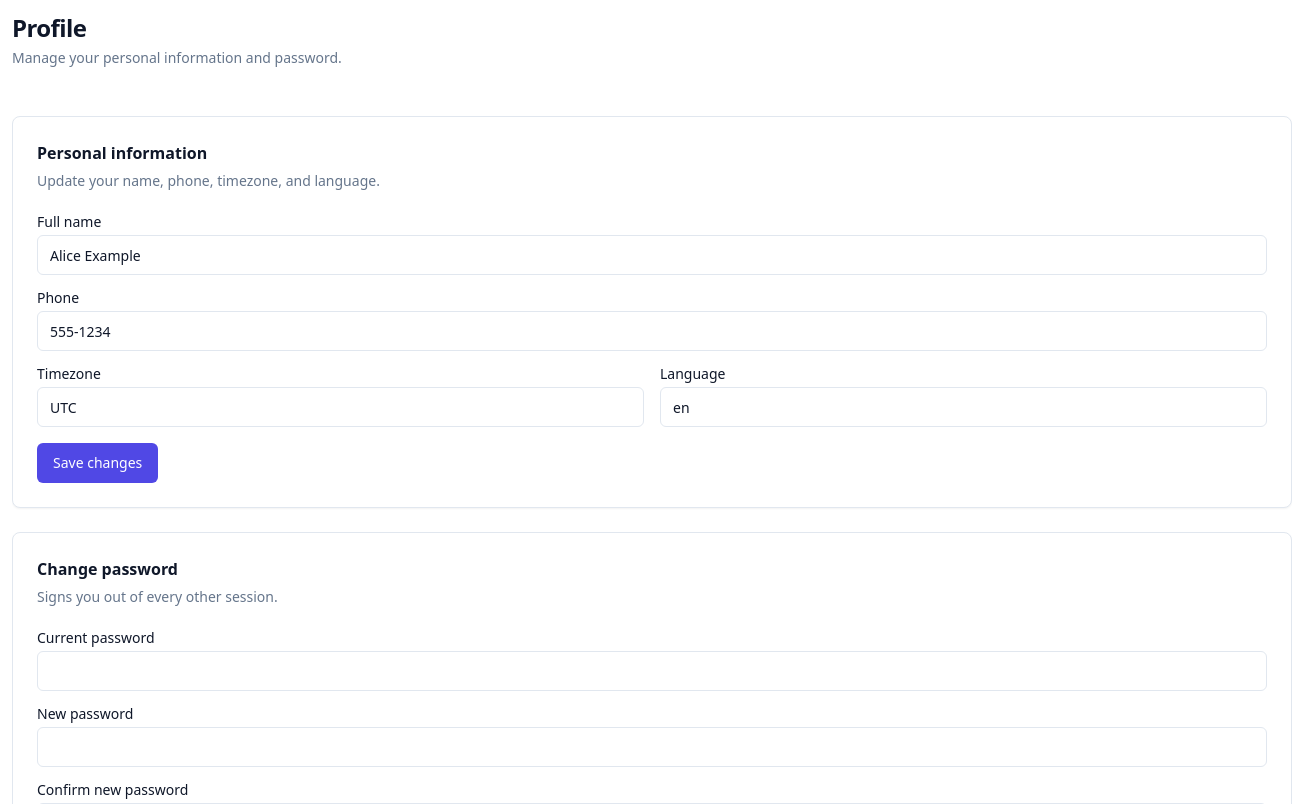
Test: ProfilePage › submits profile updates
Replace the text in the field showing "Alice Example" with "Alice Updated" at [652, 255], box [37,235,1267,275]
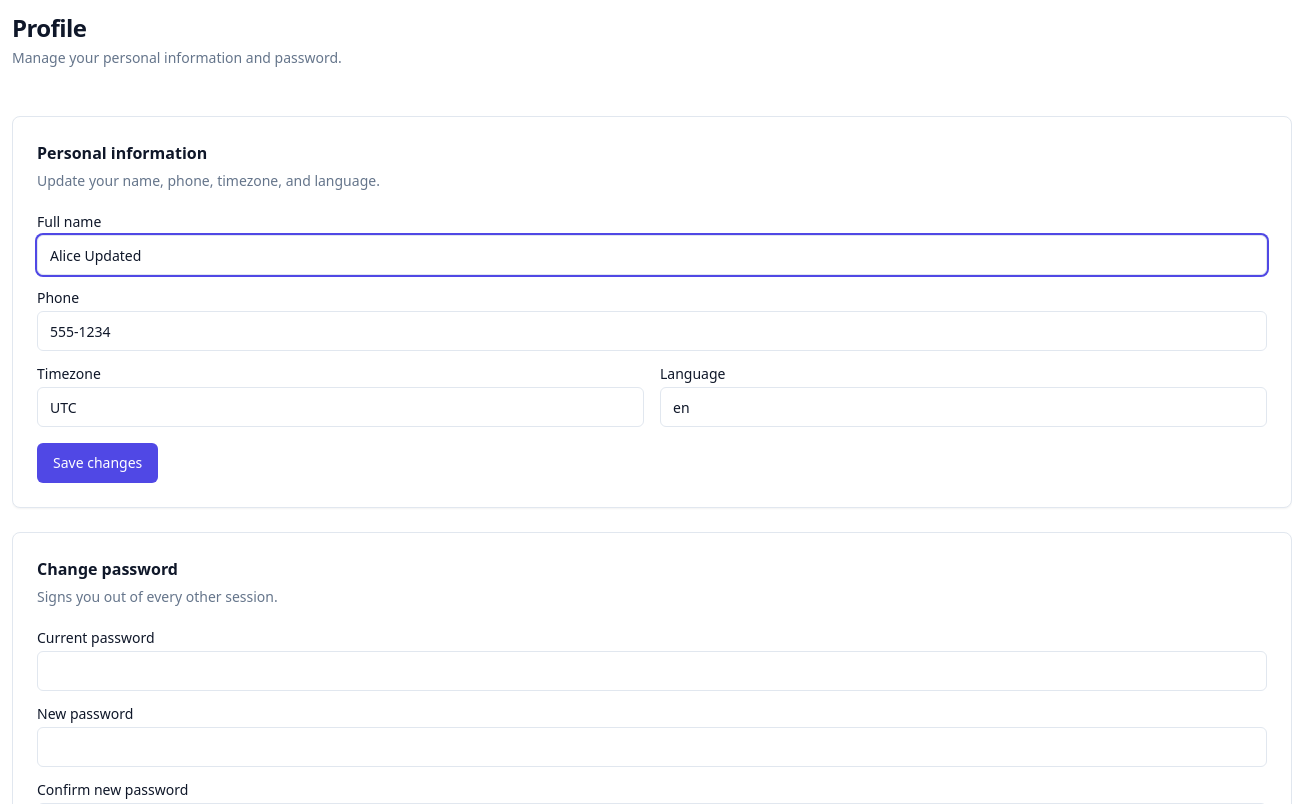
Click the button "Save changes" at [98, 463], box [37,443,158,483]
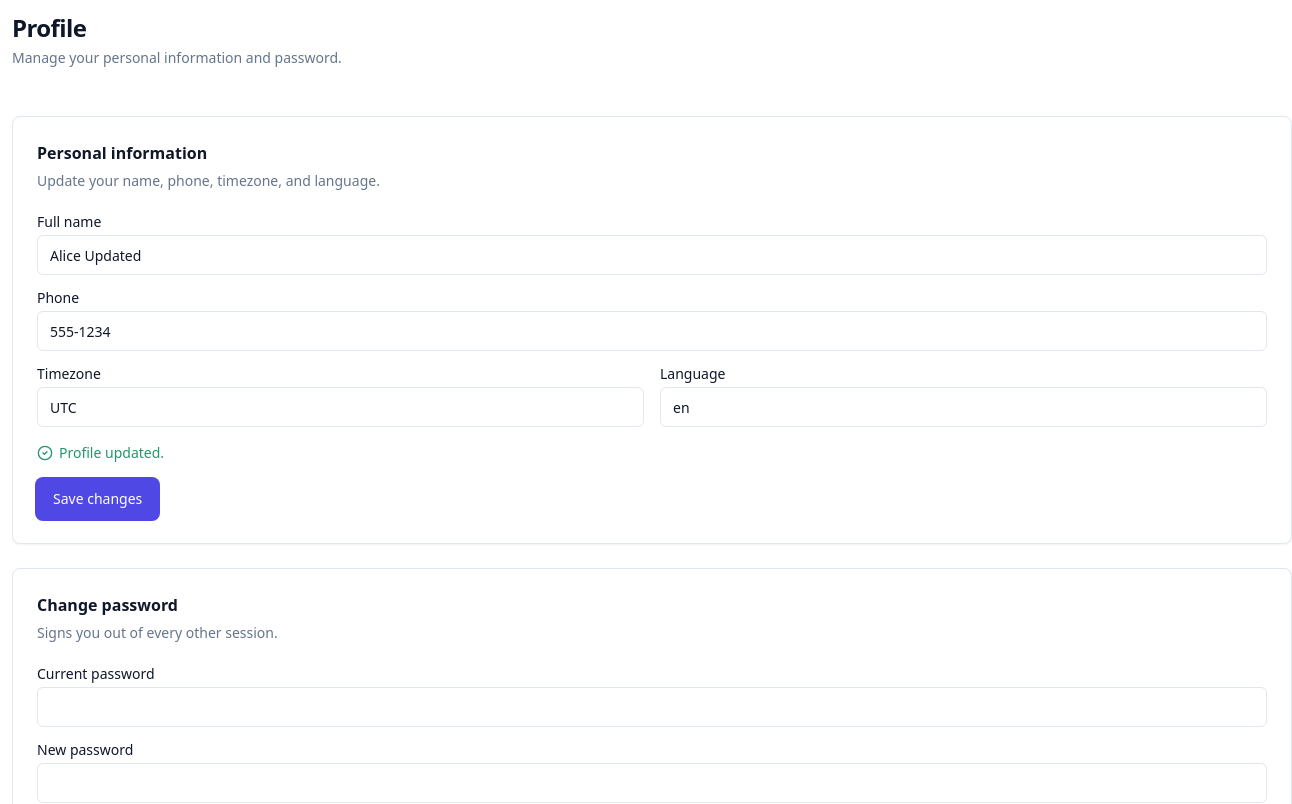
Expected: the text "Profile updated." is shown, [37,443,164,462]
